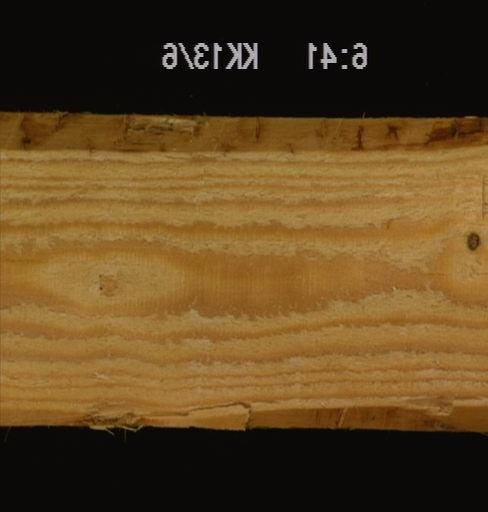dry_knot: (463, 227, 484, 252)
wave: (1, 110, 486, 158), (45, 383, 486, 433)
